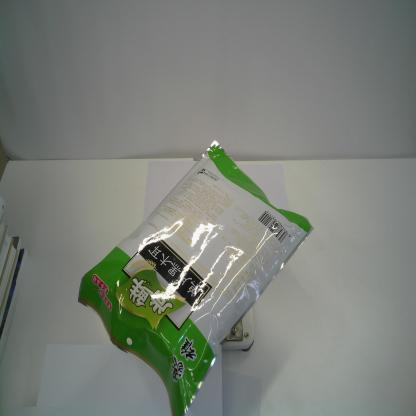Dried Food: (73, 138, 314, 416)
